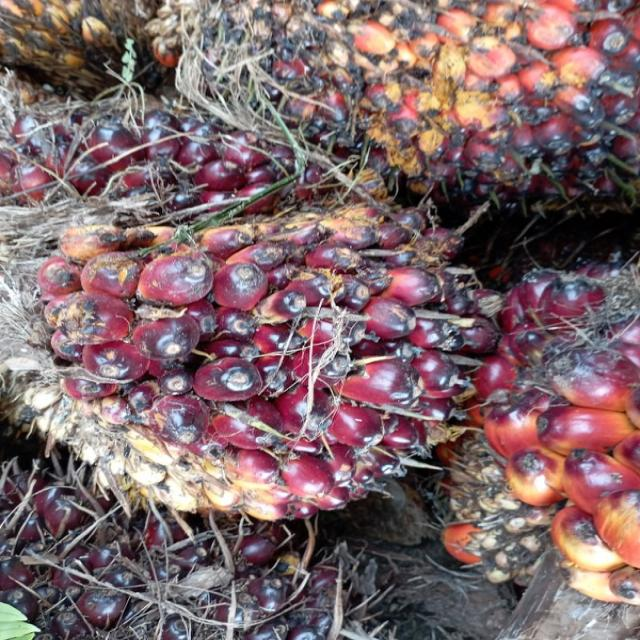fraksi 1: (0, 80, 498, 500)
